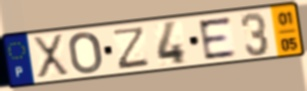3: (240, 10, 271, 58)
4: (155, 19, 189, 67)
E: (196, 14, 239, 62)
O: (66, 30, 104, 76)
X: (31, 32, 72, 79)
Z: (113, 25, 151, 72)
